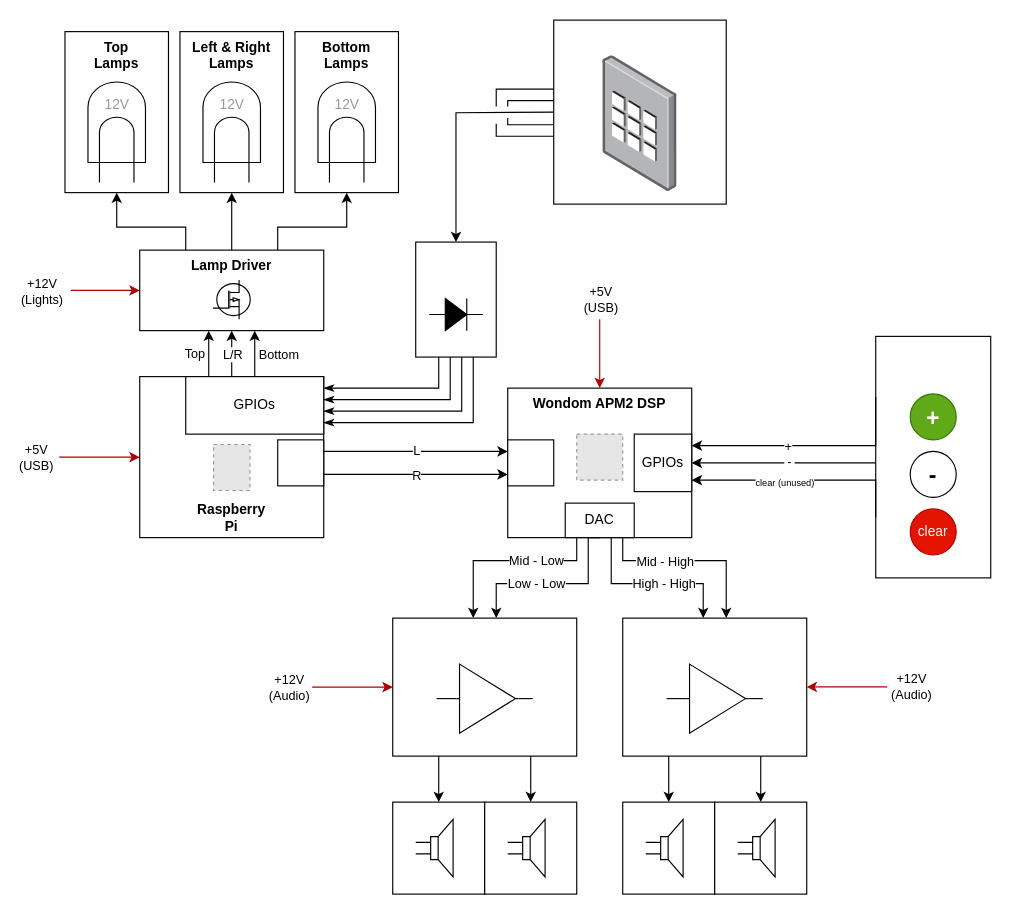
This 1012x914 diagram has some shape labels left out. Grey dashed boxes stand in for pictures. Each missing label, with the box of its shape:
ADC: (507, 439, 554, 486)
AUX: (277, 439, 324, 486)
Keypad: (553, 19, 726, 204)
Keypad Decoder: (415, 241, 496, 357)
Mid - High, High - High Amp: (622, 617, 807, 756)
Mid - Low, Low - Low Amp: (392, 617, 577, 756)
Volume Buttons: (875, 335, 991, 578)
